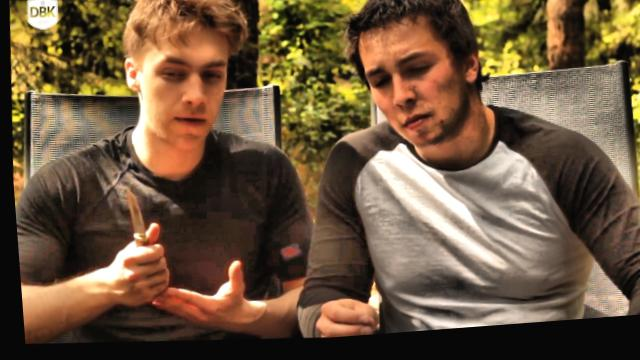knife: (106, 173, 176, 284)
